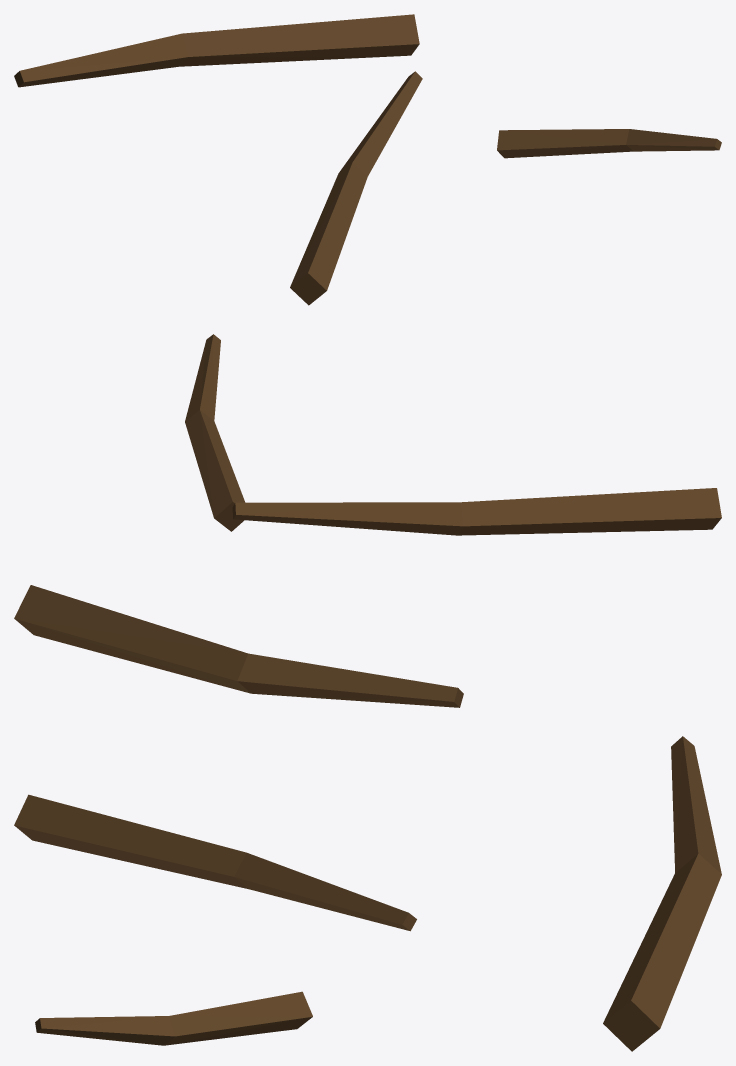
Rendered from HS_LP_Ground_Twigs_01.fbx.
The picture shows the model from 3 angles, top to bottom: view 1: azimuth 30°, elevation 25°; view 2: azimuth 150°, elevation 25°; view 3: azimuth 270°, elevation 25°; orthographic projection. The views are drawn at different scales.
Parts seen in each view (by area): view 1: HS_LP_Ground_Twigs_01; view 2: HS_LP_Ground_Twigs_01; view 3: HS_LP_Ground_Twigs_01.
Part boxes in pixels (left/top/right/bottom): HS_LP_Ground_Twigs_01: left=14, top=14, right=721, bottom=305; HS_LP_Ground_Twigs_01: left=14, top=334, right=721, bottom=707; HS_LP_Ground_Twigs_01: left=14, top=736, right=721, bottom=1051.
Size of the model in its own units: 46.49 by 6.52 by 47.95.
